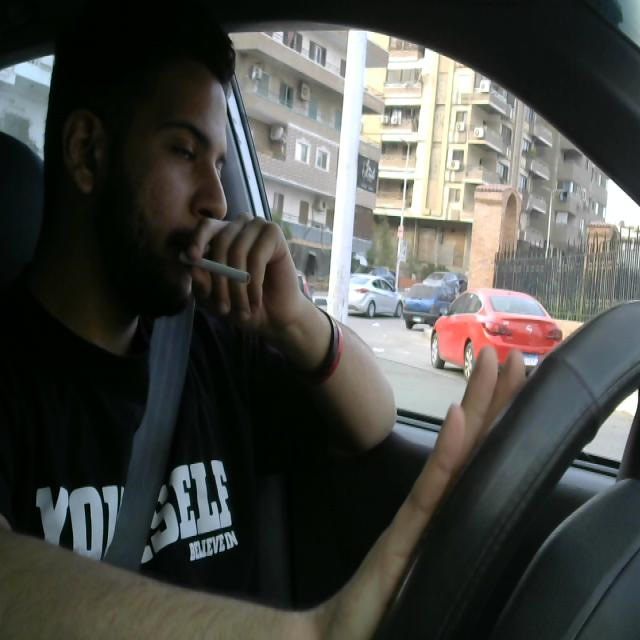smoking: (182, 255, 254, 288)
